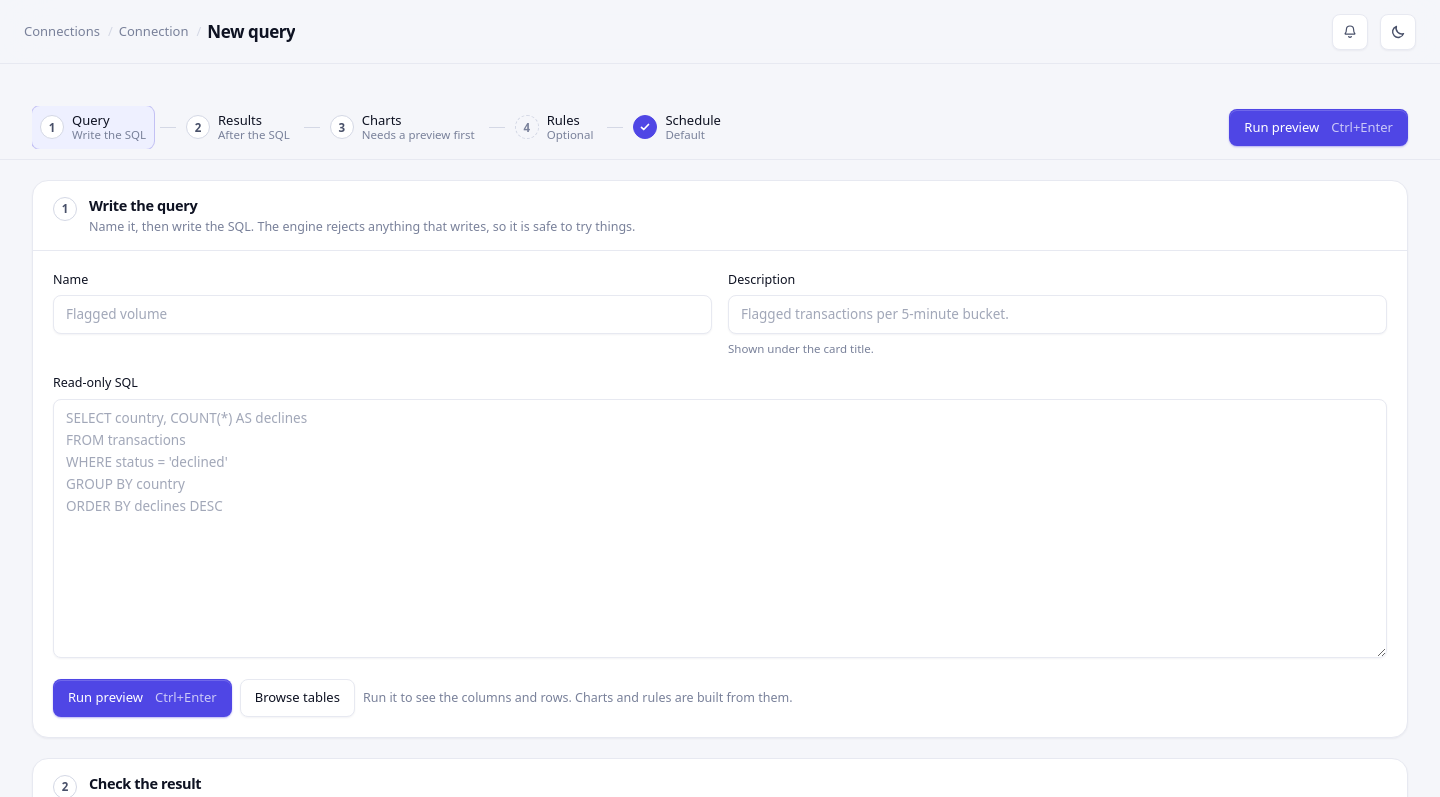
saving a new query › says it saved while the next page is still resolving
In the field labelled "Name": (382, 314) [53,295,712,334], type "Declines"
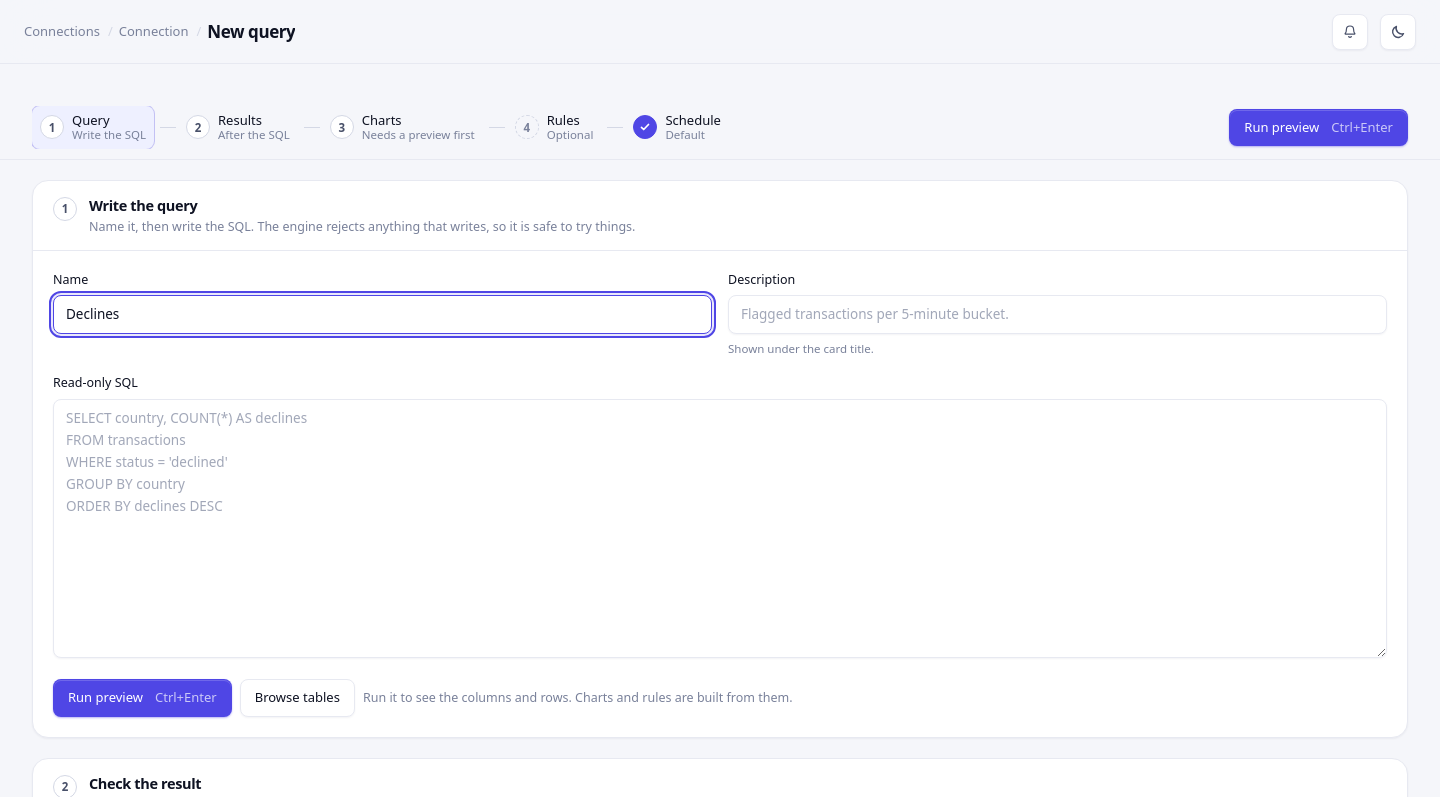
In the text box labelled "Read-only SQL": (720, 529) [53,399,1387,658], type "SELECT 1 AS n"
(page scrolled)
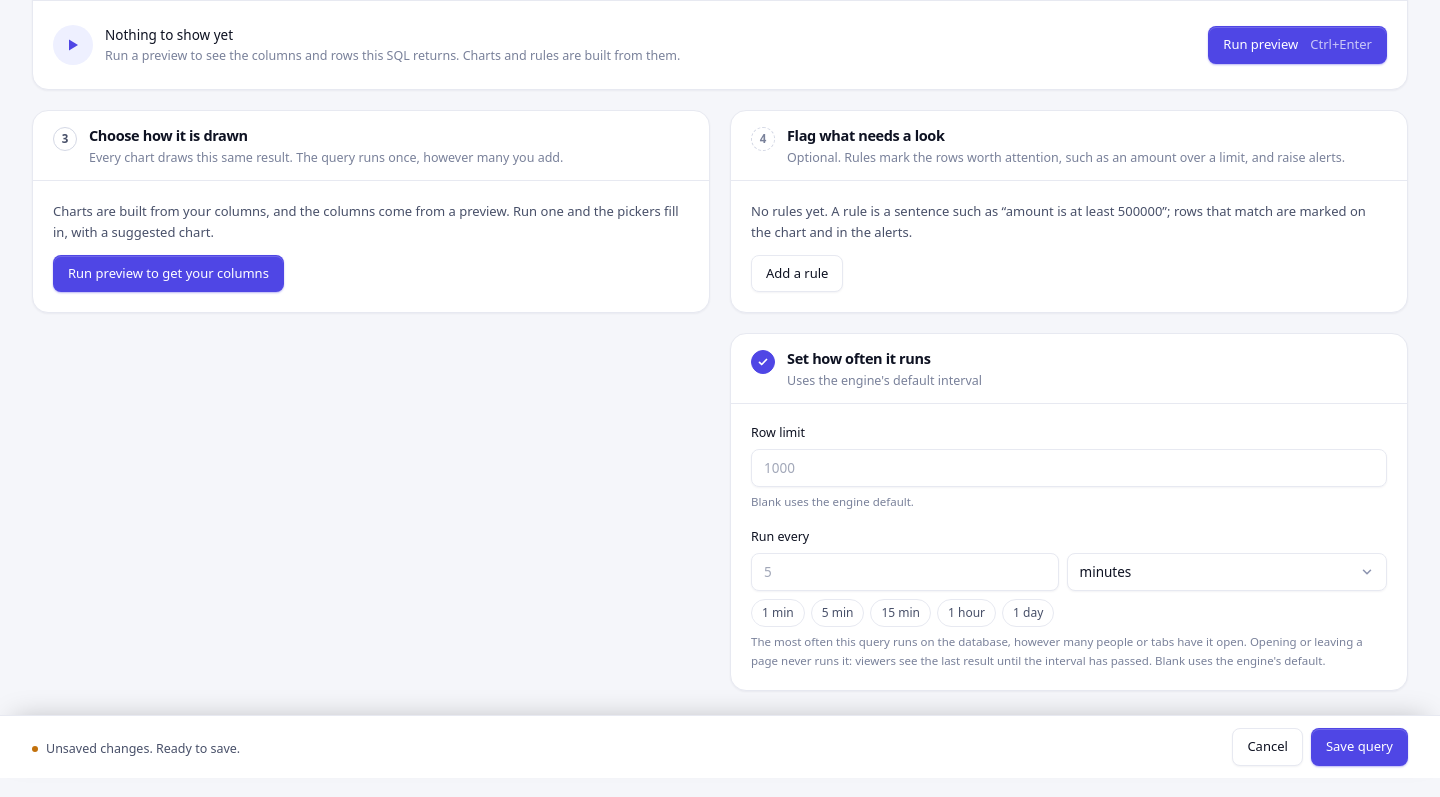
Click the button "Save query": (1359, 747) [1311,728,1408,766]
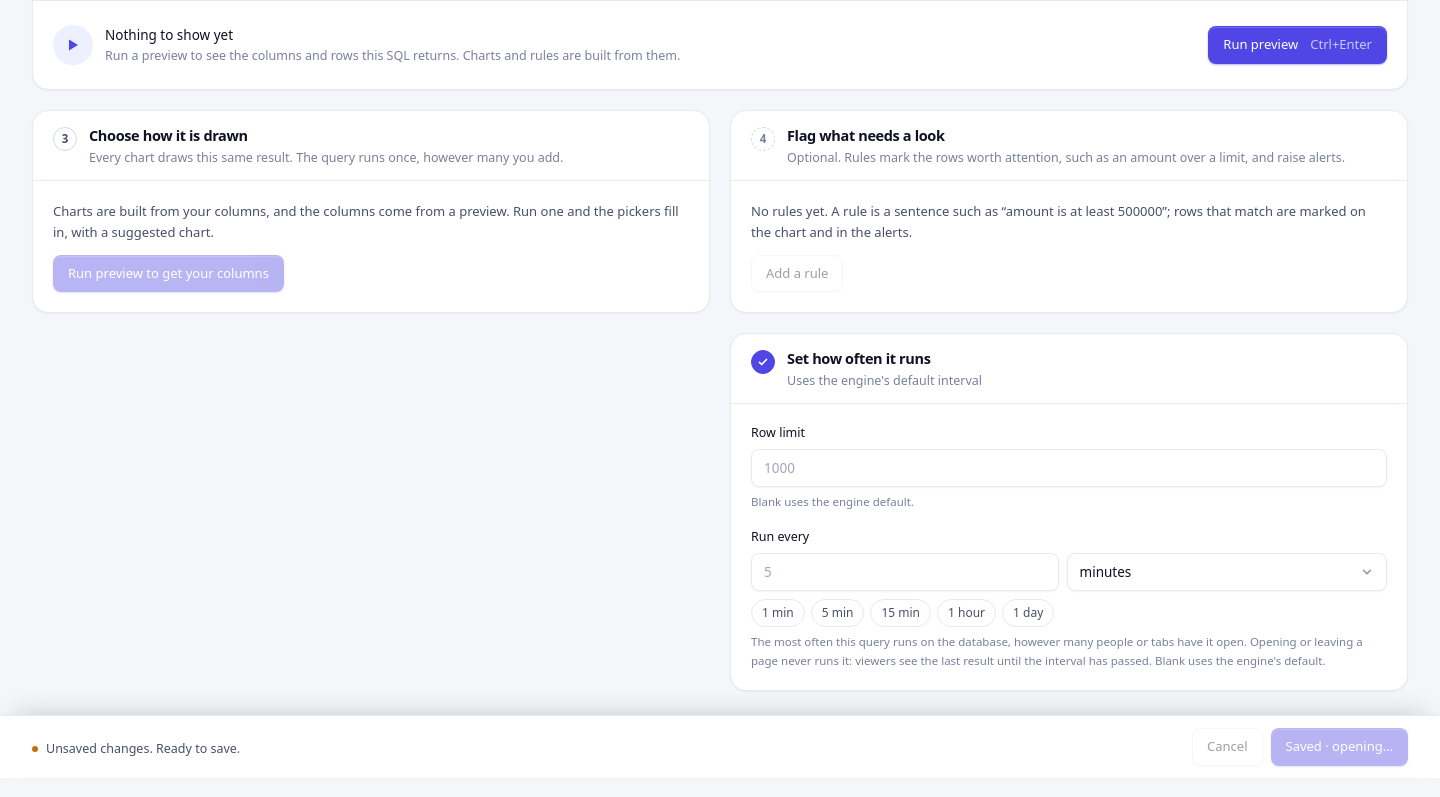
Result: the button "Saved · opening…" is shown at [1270,728,1408,766]
